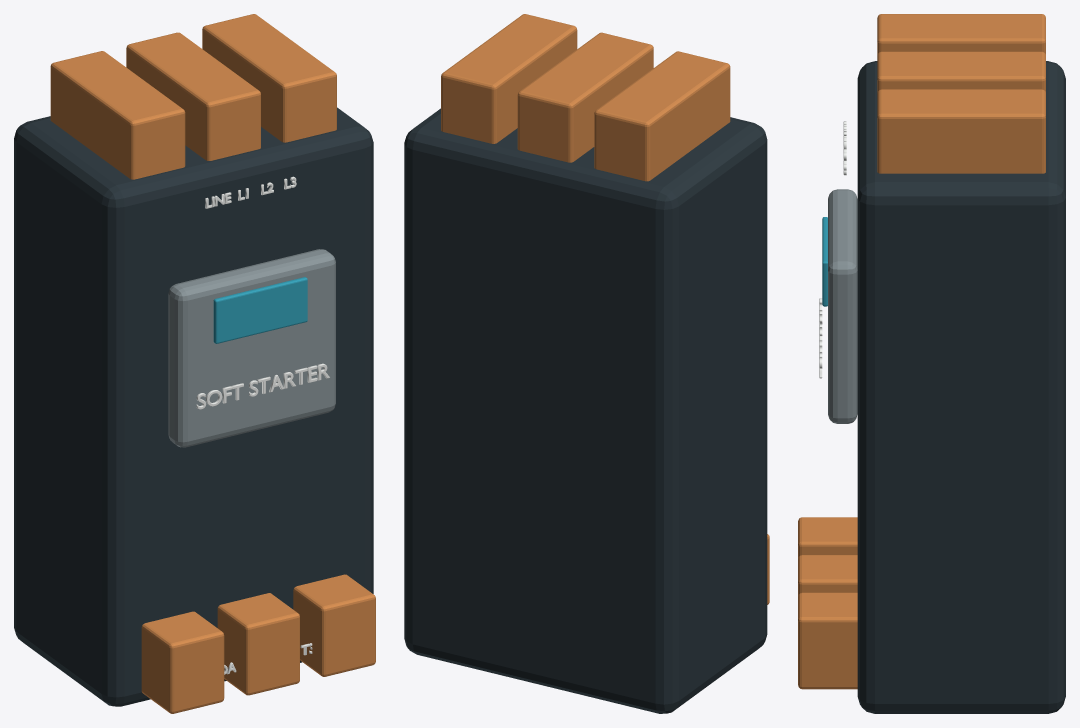
File: soft_starter.glb
3 views of the same model, side by side, from view 1: azimuth 30°, elevation 25°; view 2: azimuth 150°, elevation 25°; view 3: azimuth 270°, elevation 25° (orthographic).
Visible parts, largest first — view 1: SOFT_STARTER, KEYPAD, LINE_TERMINAL_0, LINE_TERMINAL_2, LINE_TERMINAL_1, LOAD_TERMINAL_0, LOAD_TERMINAL_2, LOAD_TERMINAL_1, DISPLAY, SOFT_TEXT, LINE_LABEL; view 2: SOFT_STARTER, LINE_TERMINAL_0, LINE_TERMINAL_1, LINE_TERMINAL_2; view 3: SOFT_STARTER, LINE_TERMINAL_2, KEYPAD, LINE_TERMINAL_1, LINE_TERMINAL_0, LOAD_TERMINAL_2, LOAD_TERMINAL_0, LOAD_TERMINAL_1, DISPLAY.
Part boxes in pixels (x1,y1,x2,y2): SOFT_STARTER: [14, 107, 373, 706]; KEYPAD: [168, 249, 335, 447]; LINE_TERMINAL_0: [50, 51, 185, 179]; LINE_TERMINAL_2: [202, 14, 336, 142]; LINE_TERMINAL_1: [126, 32, 260, 160]; LOAD_TERMINAL_0: [141, 611, 224, 713]; LOAD_TERMINAL_2: [293, 574, 375, 676]; LOAD_TERMINAL_1: [217, 593, 299, 695]; DISPLAY: [213, 277, 307, 343]; SOFT_TEXT: [196, 363, 329, 409]; LINE_LABEL: [205, 176, 296, 208]; SOFT_STARTER: [404, 108, 767, 713]; LINE_TERMINAL_0: [594, 51, 730, 181]; LINE_TERMINAL_1: [517, 32, 653, 162]; LINE_TERMINAL_2: [441, 14, 577, 143]; SOFT_STARTER: [857, 61, 1065, 713]; LINE_TERMINAL_2: [877, 89, 1045, 173]; KEYPAD: [828, 189, 857, 423]; LINE_TERMINAL_1: [877, 51, 1045, 92]; LINE_TERMINAL_0: [877, 14, 1045, 55]; LOAD_TERMINAL_2: [798, 592, 857, 689]; LOAD_TERMINAL_0: [798, 517, 857, 558]; LOAD_TERMINAL_1: [798, 555, 857, 596]; DISPLAY: [822, 217, 827, 306].
Bounding box in the file's own units: 0.64 × 1.31 × 0.54.
